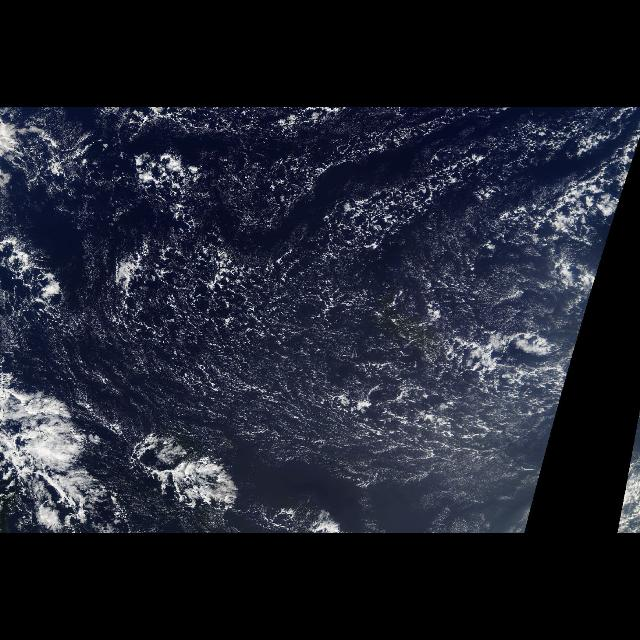Gravel: (2, 108, 638, 530), (614, 421, 638, 532)
Sugar: (203, 296, 574, 526)
